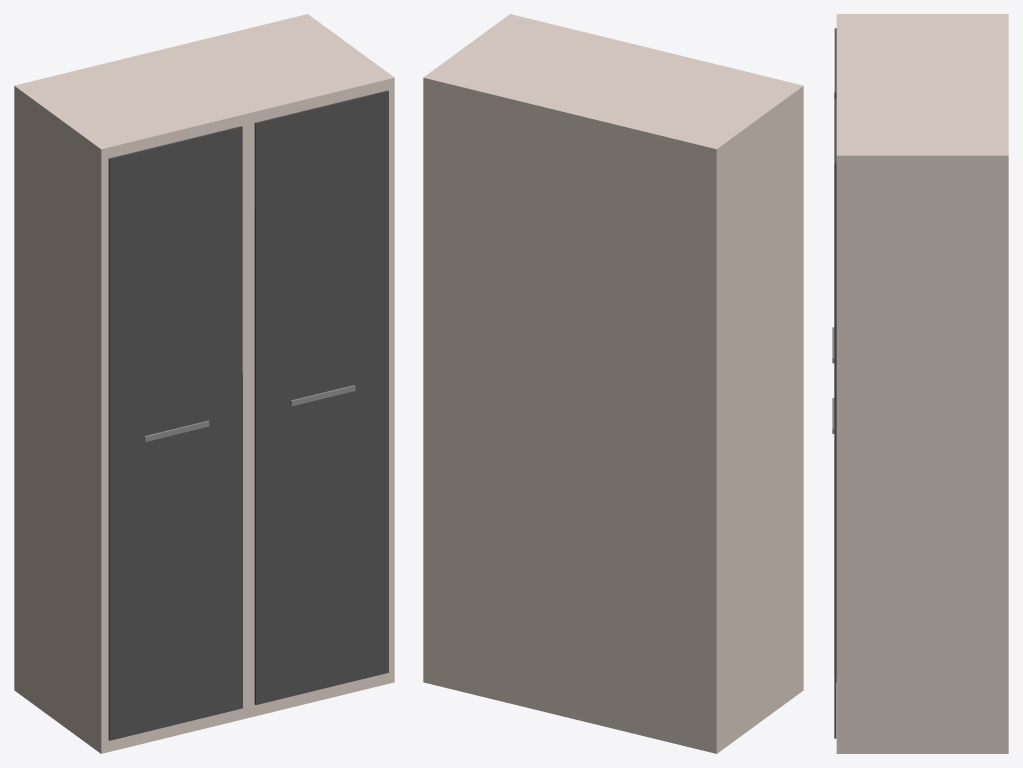
File: Cupboard_4.fbx
3 renders of one model, left to right at view 1: azimuth 30°, elevation 25°; view 2: azimuth 150°, elevation 25°; view 3: azimuth 270°, elevation 25°, orthographic.
Visible parts, largest first — view 1: Cupboard_4; view 2: Cupboard_4; view 3: Cupboard_4.
Part boxes in pixels (box(x1,y1,x2,y2)): Cupboard_4: box(14, 14, 394, 753); Cupboard_4: box(423, 14, 803, 753); Cupboard_4: box(832, 14, 1008, 753).
Bounding box in the file's own units: 156 × 81.99 × 306.
